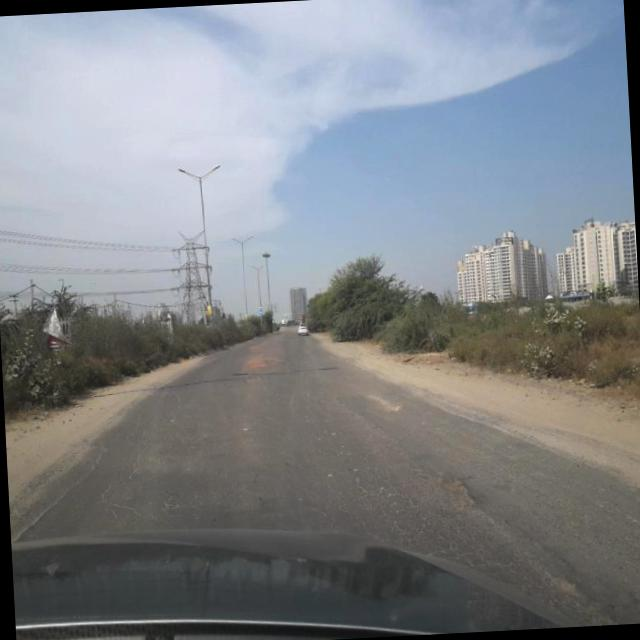crack: (310, 388, 602, 634), (10, 435, 110, 538), (104, 428, 204, 530)
pothole: (543, 556, 585, 604), (440, 464, 482, 512), (241, 342, 277, 376)
